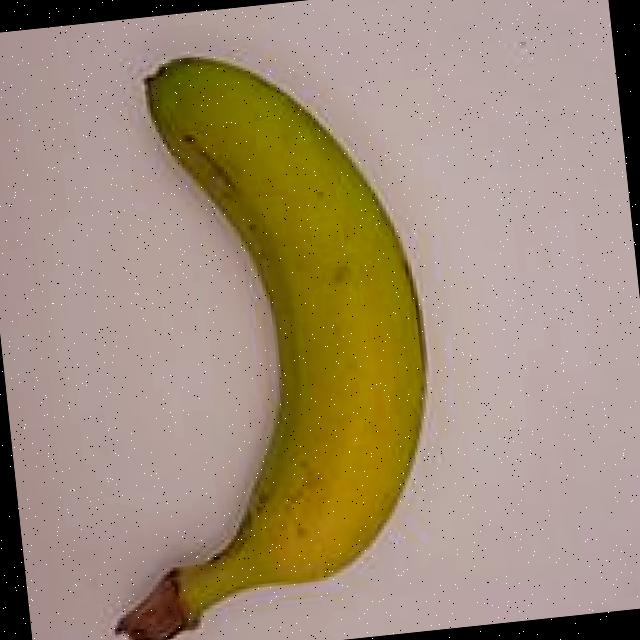Unripe: (18, 6, 465, 640)
